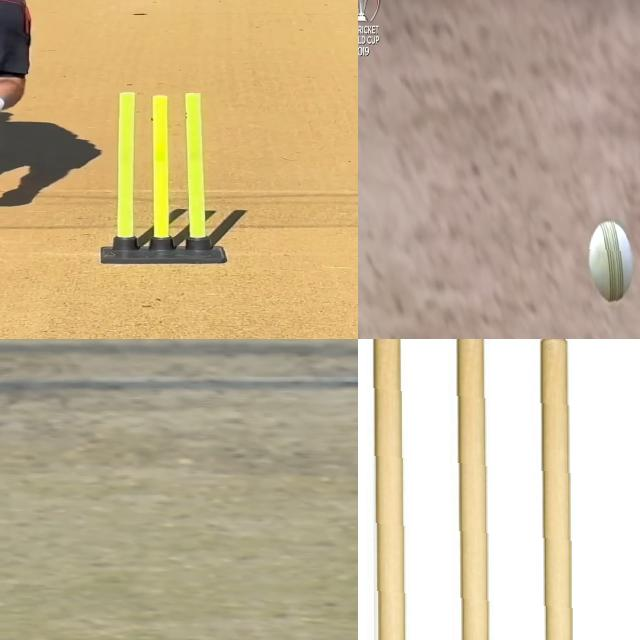Cricket ball: (586, 215, 635, 306)
Stumps: (367, 339, 573, 640)
